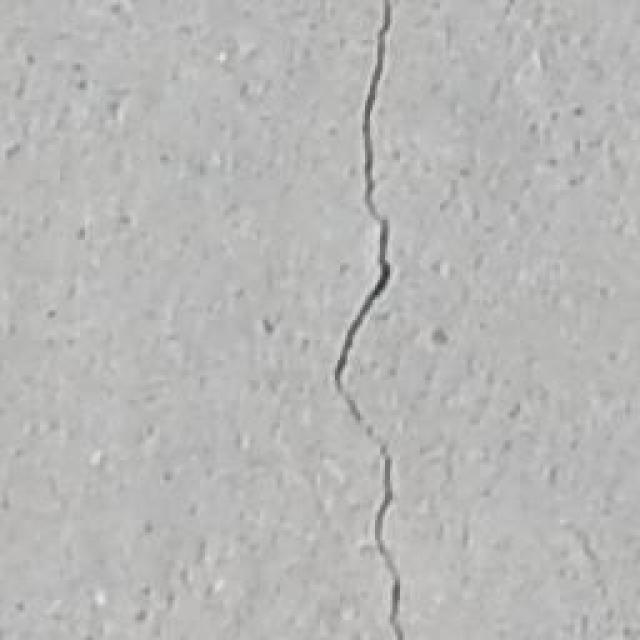concrete-crack: (332, 0, 408, 640)
